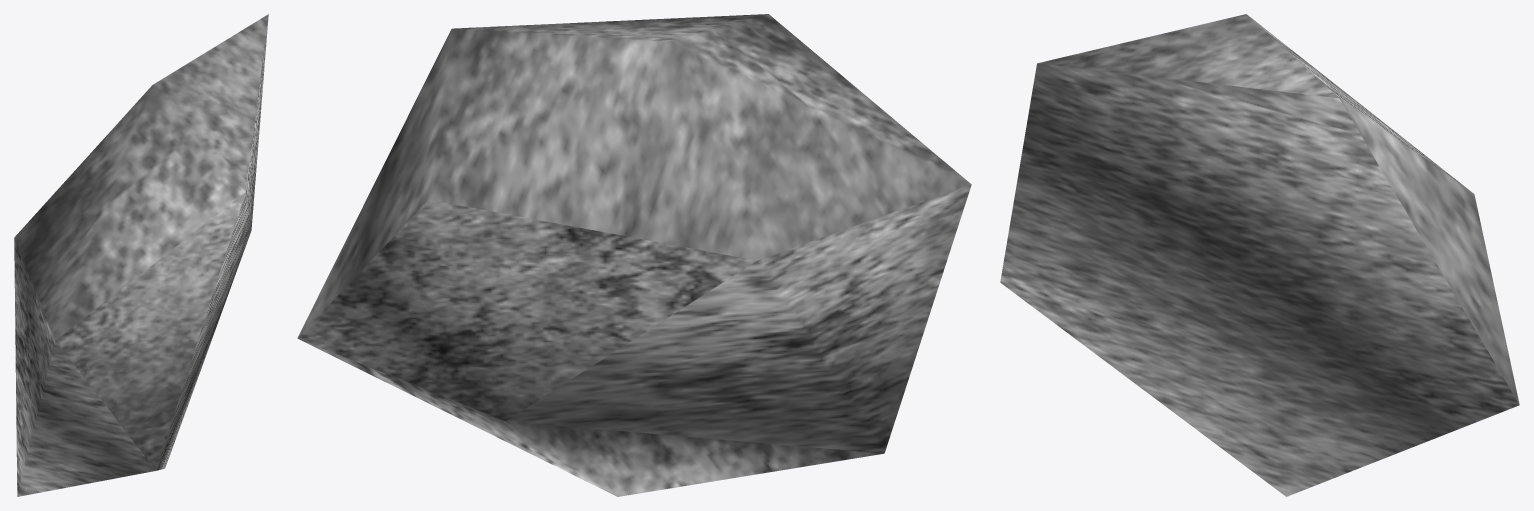
The model's file is GeoSphere009.FBX.
3 renders of one model, left to right at view 1: azimuth 30°, elevation 25°; view 2: azimuth 150°, elevation 25°; view 3: azimuth 270°, elevation 25°, orthographic. The views are drawn at different scales.
Visible parts, largest first — view 1: GeoSphere009; view 2: GeoSphere009; view 3: GeoSphere009.
Part boxes in pixels (x1,y1,x2,y2): GeoSphere009: [14, 14, 268, 496]; GeoSphere009: [297, 14, 971, 496]; GeoSphere009: [1000, 14, 1519, 496].
Size of the model in its own units: 7.63 by 7.4 by 7.41.
